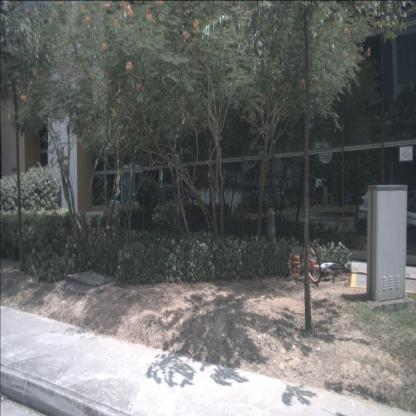vehicle-bicycle: (284, 242, 349, 284)
